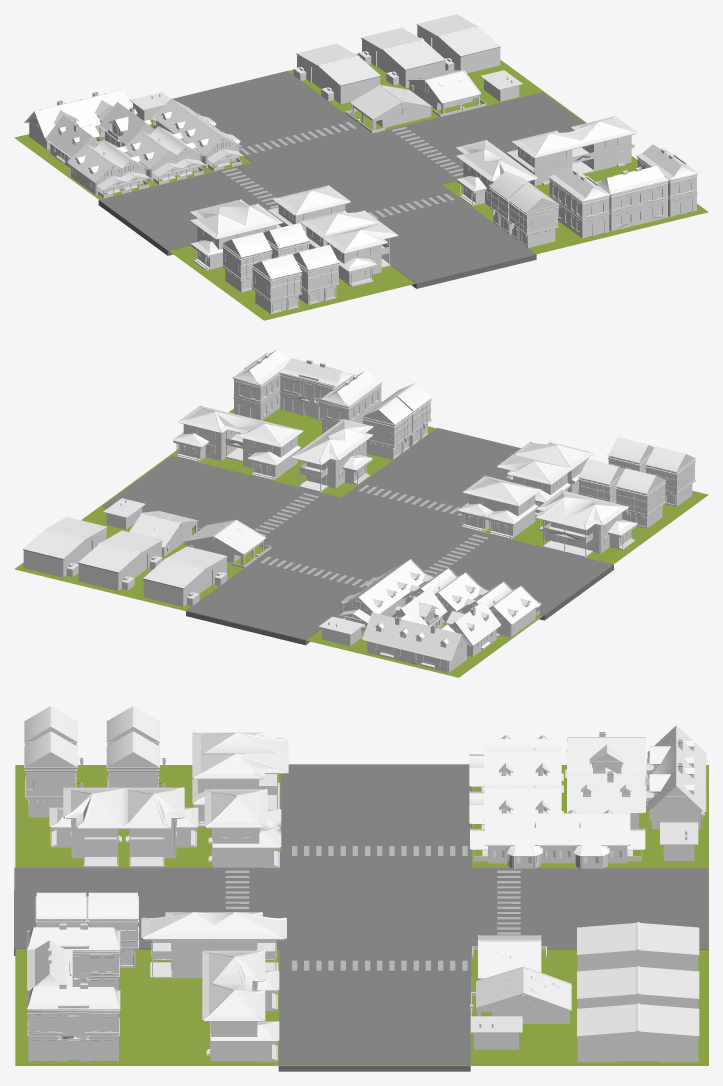
Rendered from house.gltf.
3 views of the same model, one above another, from view 1: azimuth 30°, elevation 25°; view 2: azimuth 150°, elevation 25°; view 3: azimuth 270°, elevation 25° (orthographic). The views are drawn at different scales.
Parts seen in each view (by area): view 1: Street environment_V01; view 2: Street environment_V01; view 3: Street environment_V01.
Boxes of the visible parts, bbox=[...] form: Street environment_V01: bbox=[14, 14, 708, 320]; Street environment_V01: bbox=[14, 349, 708, 677]; Street environment_V01: bbox=[14, 706, 708, 1071].
Size of the model in its own units: 96.86 by 11.25 by 94.37.
